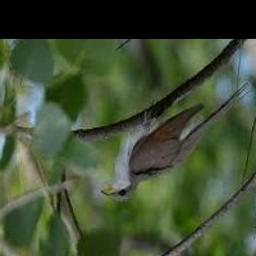Cuckoo: (100, 80, 252, 203)
